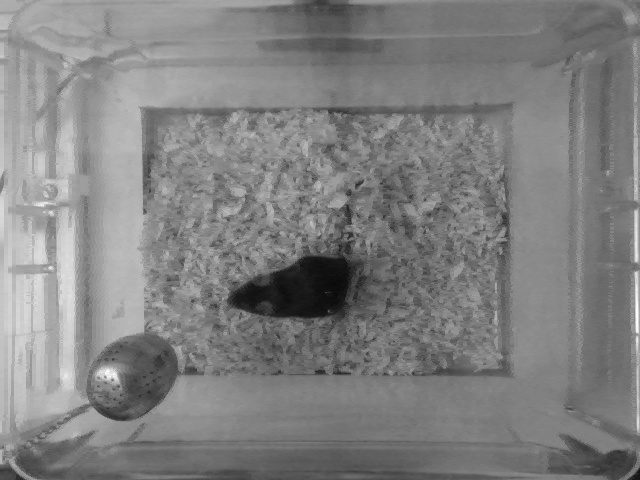mice: (224, 179, 363, 323)
